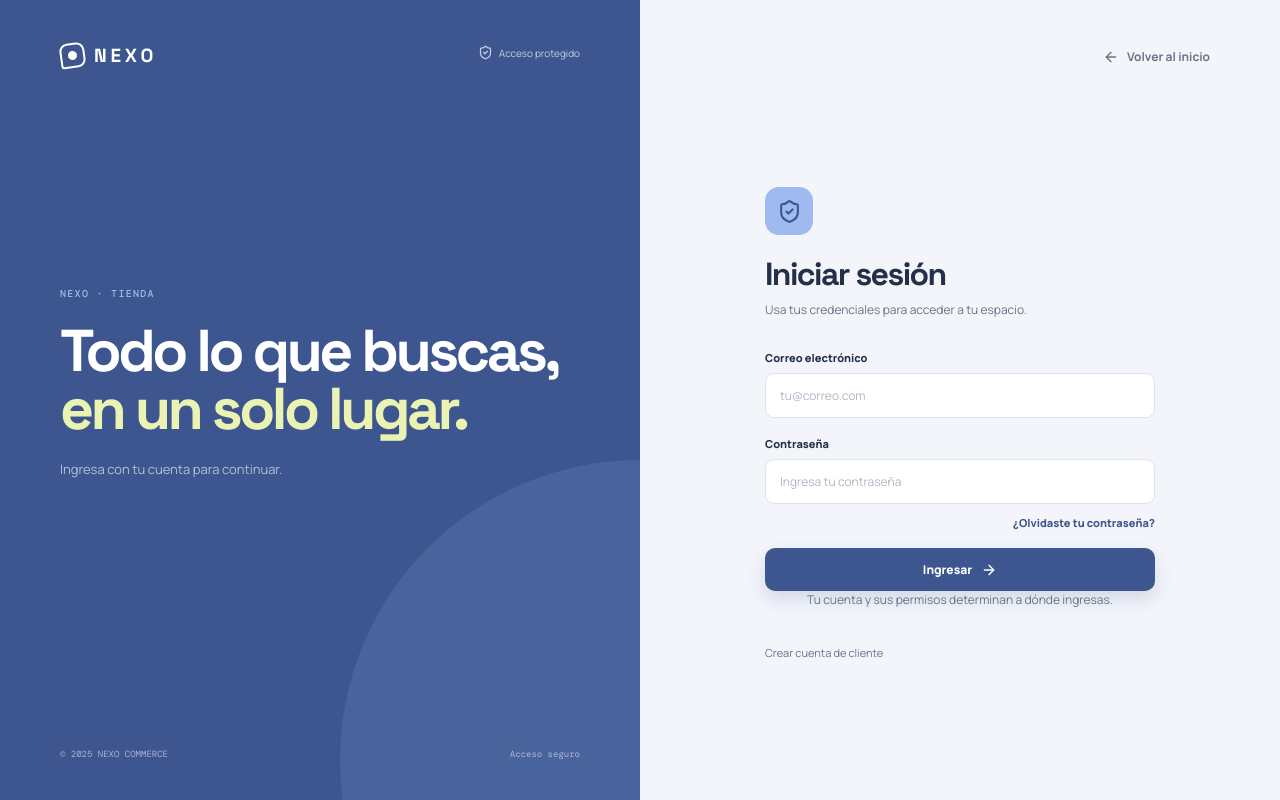
acceso público y administrativo › muestra el error de credenciales, errores de disponibilidad y mensajes de respaldo
The width and height of the screenshot is (1280, 800).
Type "ana@example.test" into the field labelled "Correo electrónico" at (960, 396), box [765,373,1155,418]
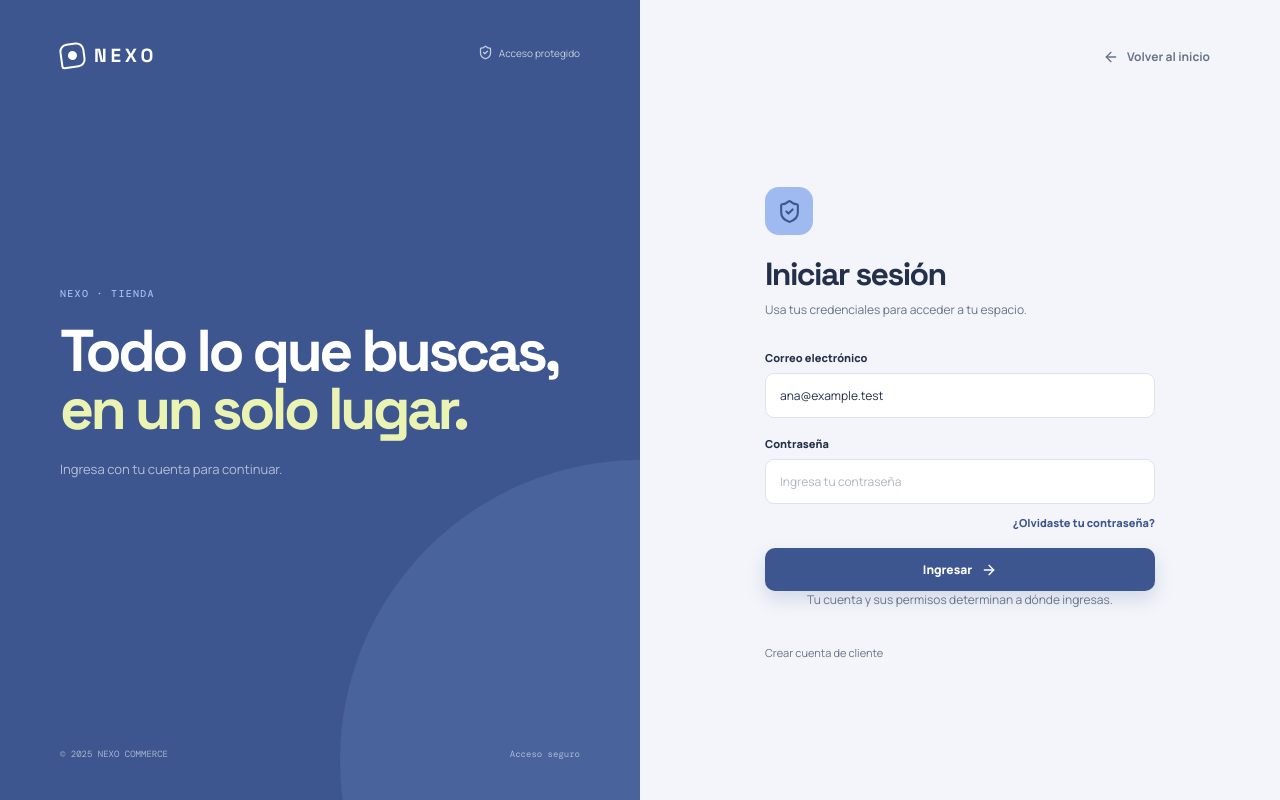
Type "ContraseñaSegura123!" into the password field labelled "Contraseña" at (960, 482), box [765,459,1155,504]
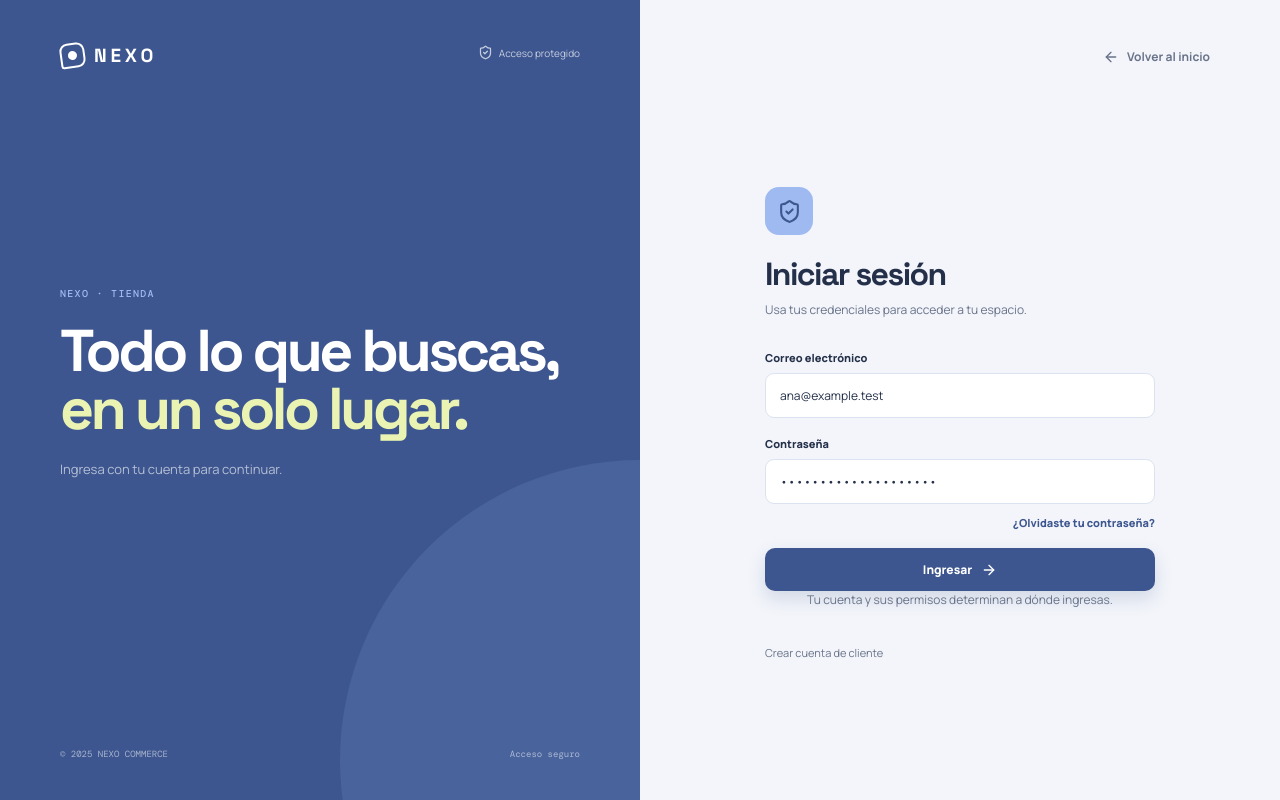
Submit the form "Ingresar", box [765,350,1155,591]
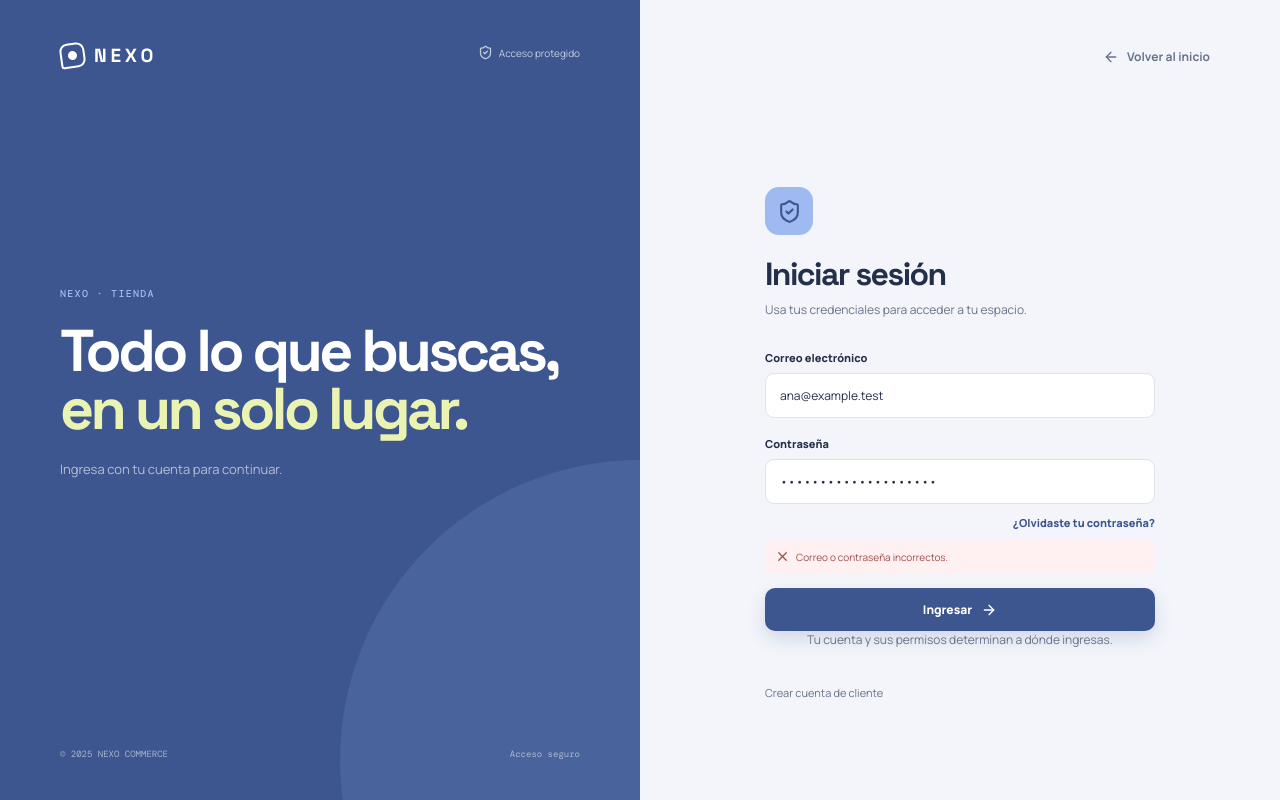
Now the message shows "Correo o contraseña incorrectos", box [796,550,948,564]
Submit the form named "Ingresar", box [765,350,1155,631]
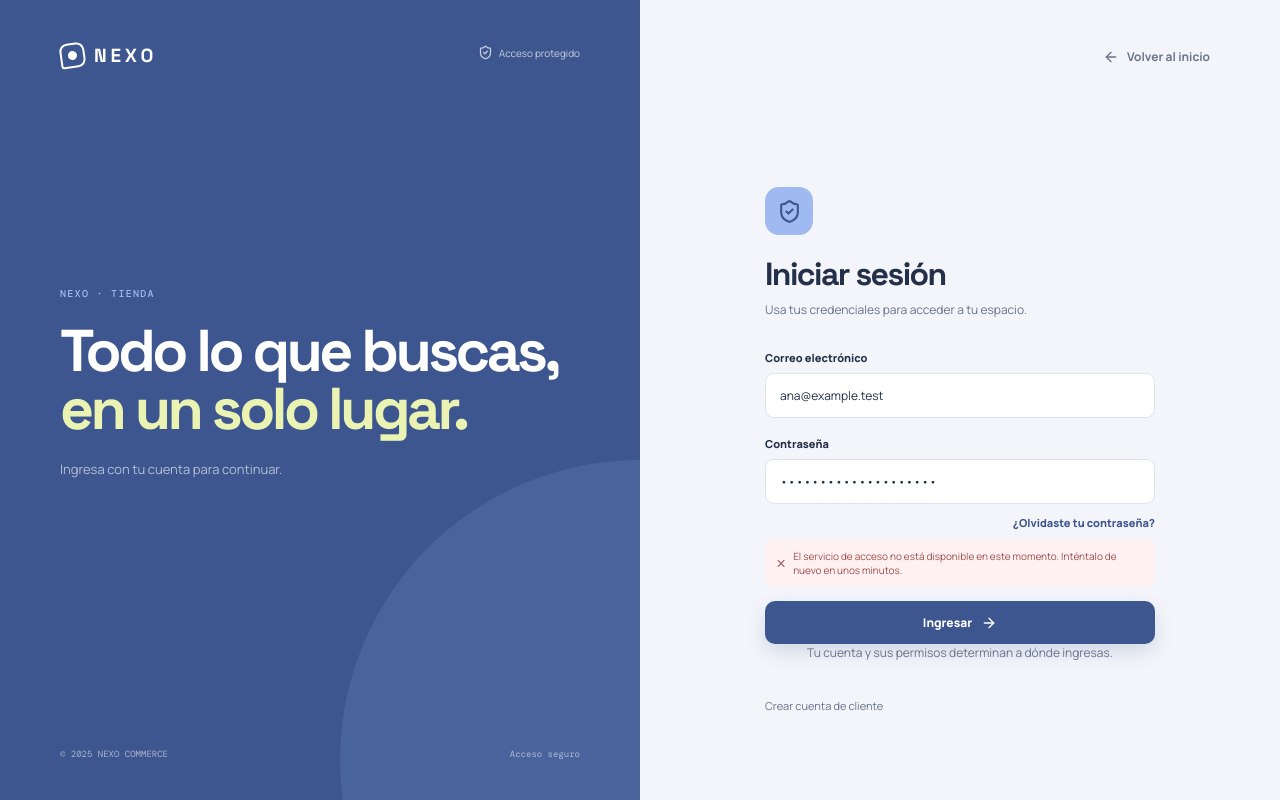
Now the message shows "no está disponible", box [793,549,1117,577]
Submit the form named "Ingresar", box [765,350,1155,644]
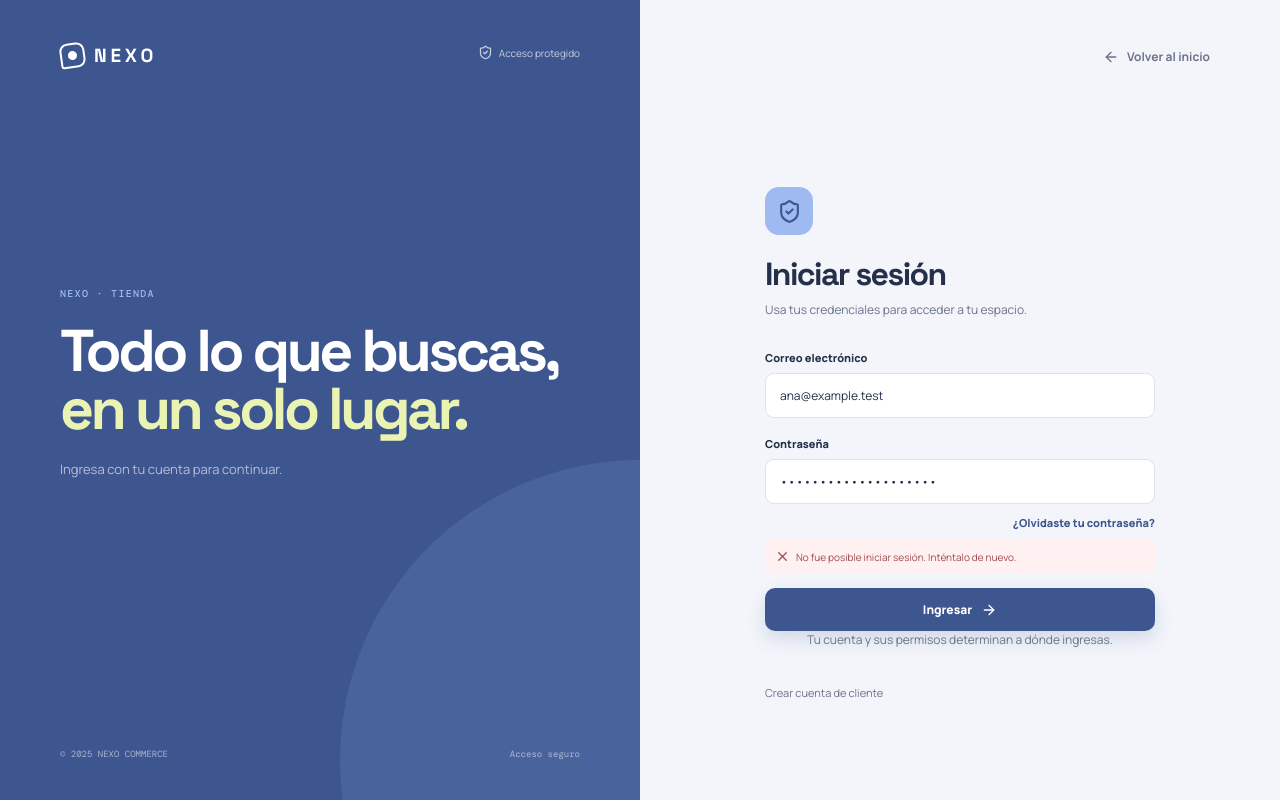
Now the message shows "No fue posible iniciar sesión", box [796,550,1016,564]
